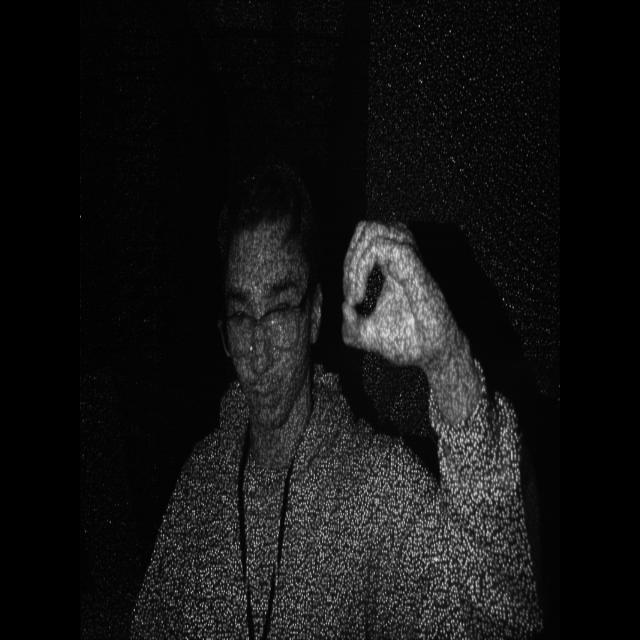O: (331, 190, 458, 375)
